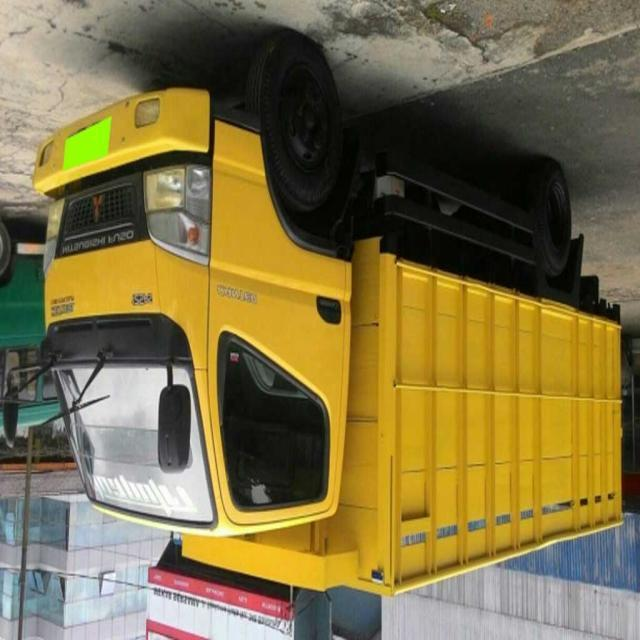truck: (0, 42, 628, 600)
